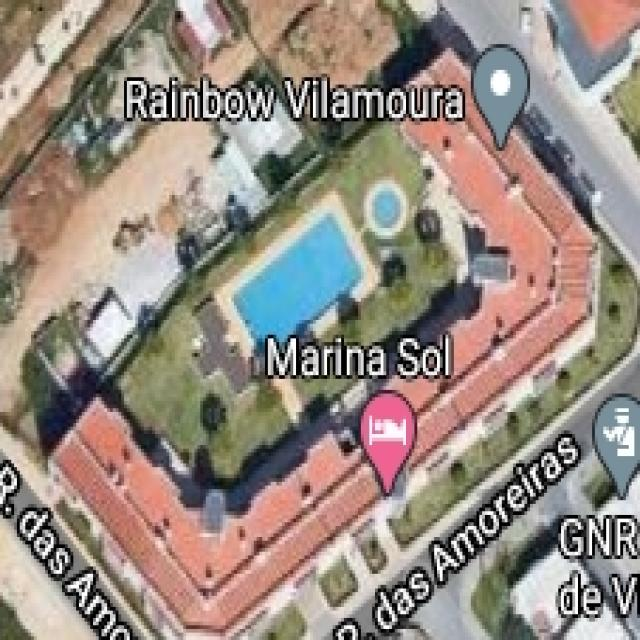pool: (198, 189, 399, 383), (364, 174, 409, 240)
